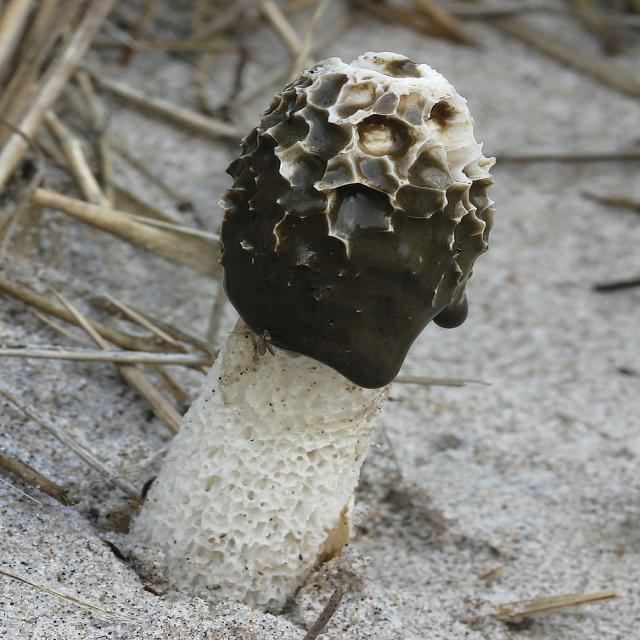Dictyophora indusiate: (144, 53, 496, 609)
